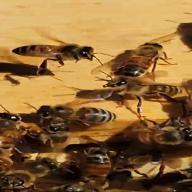Bee: (22, 101, 115, 136), (7, 41, 114, 70), (114, 40, 174, 81)
